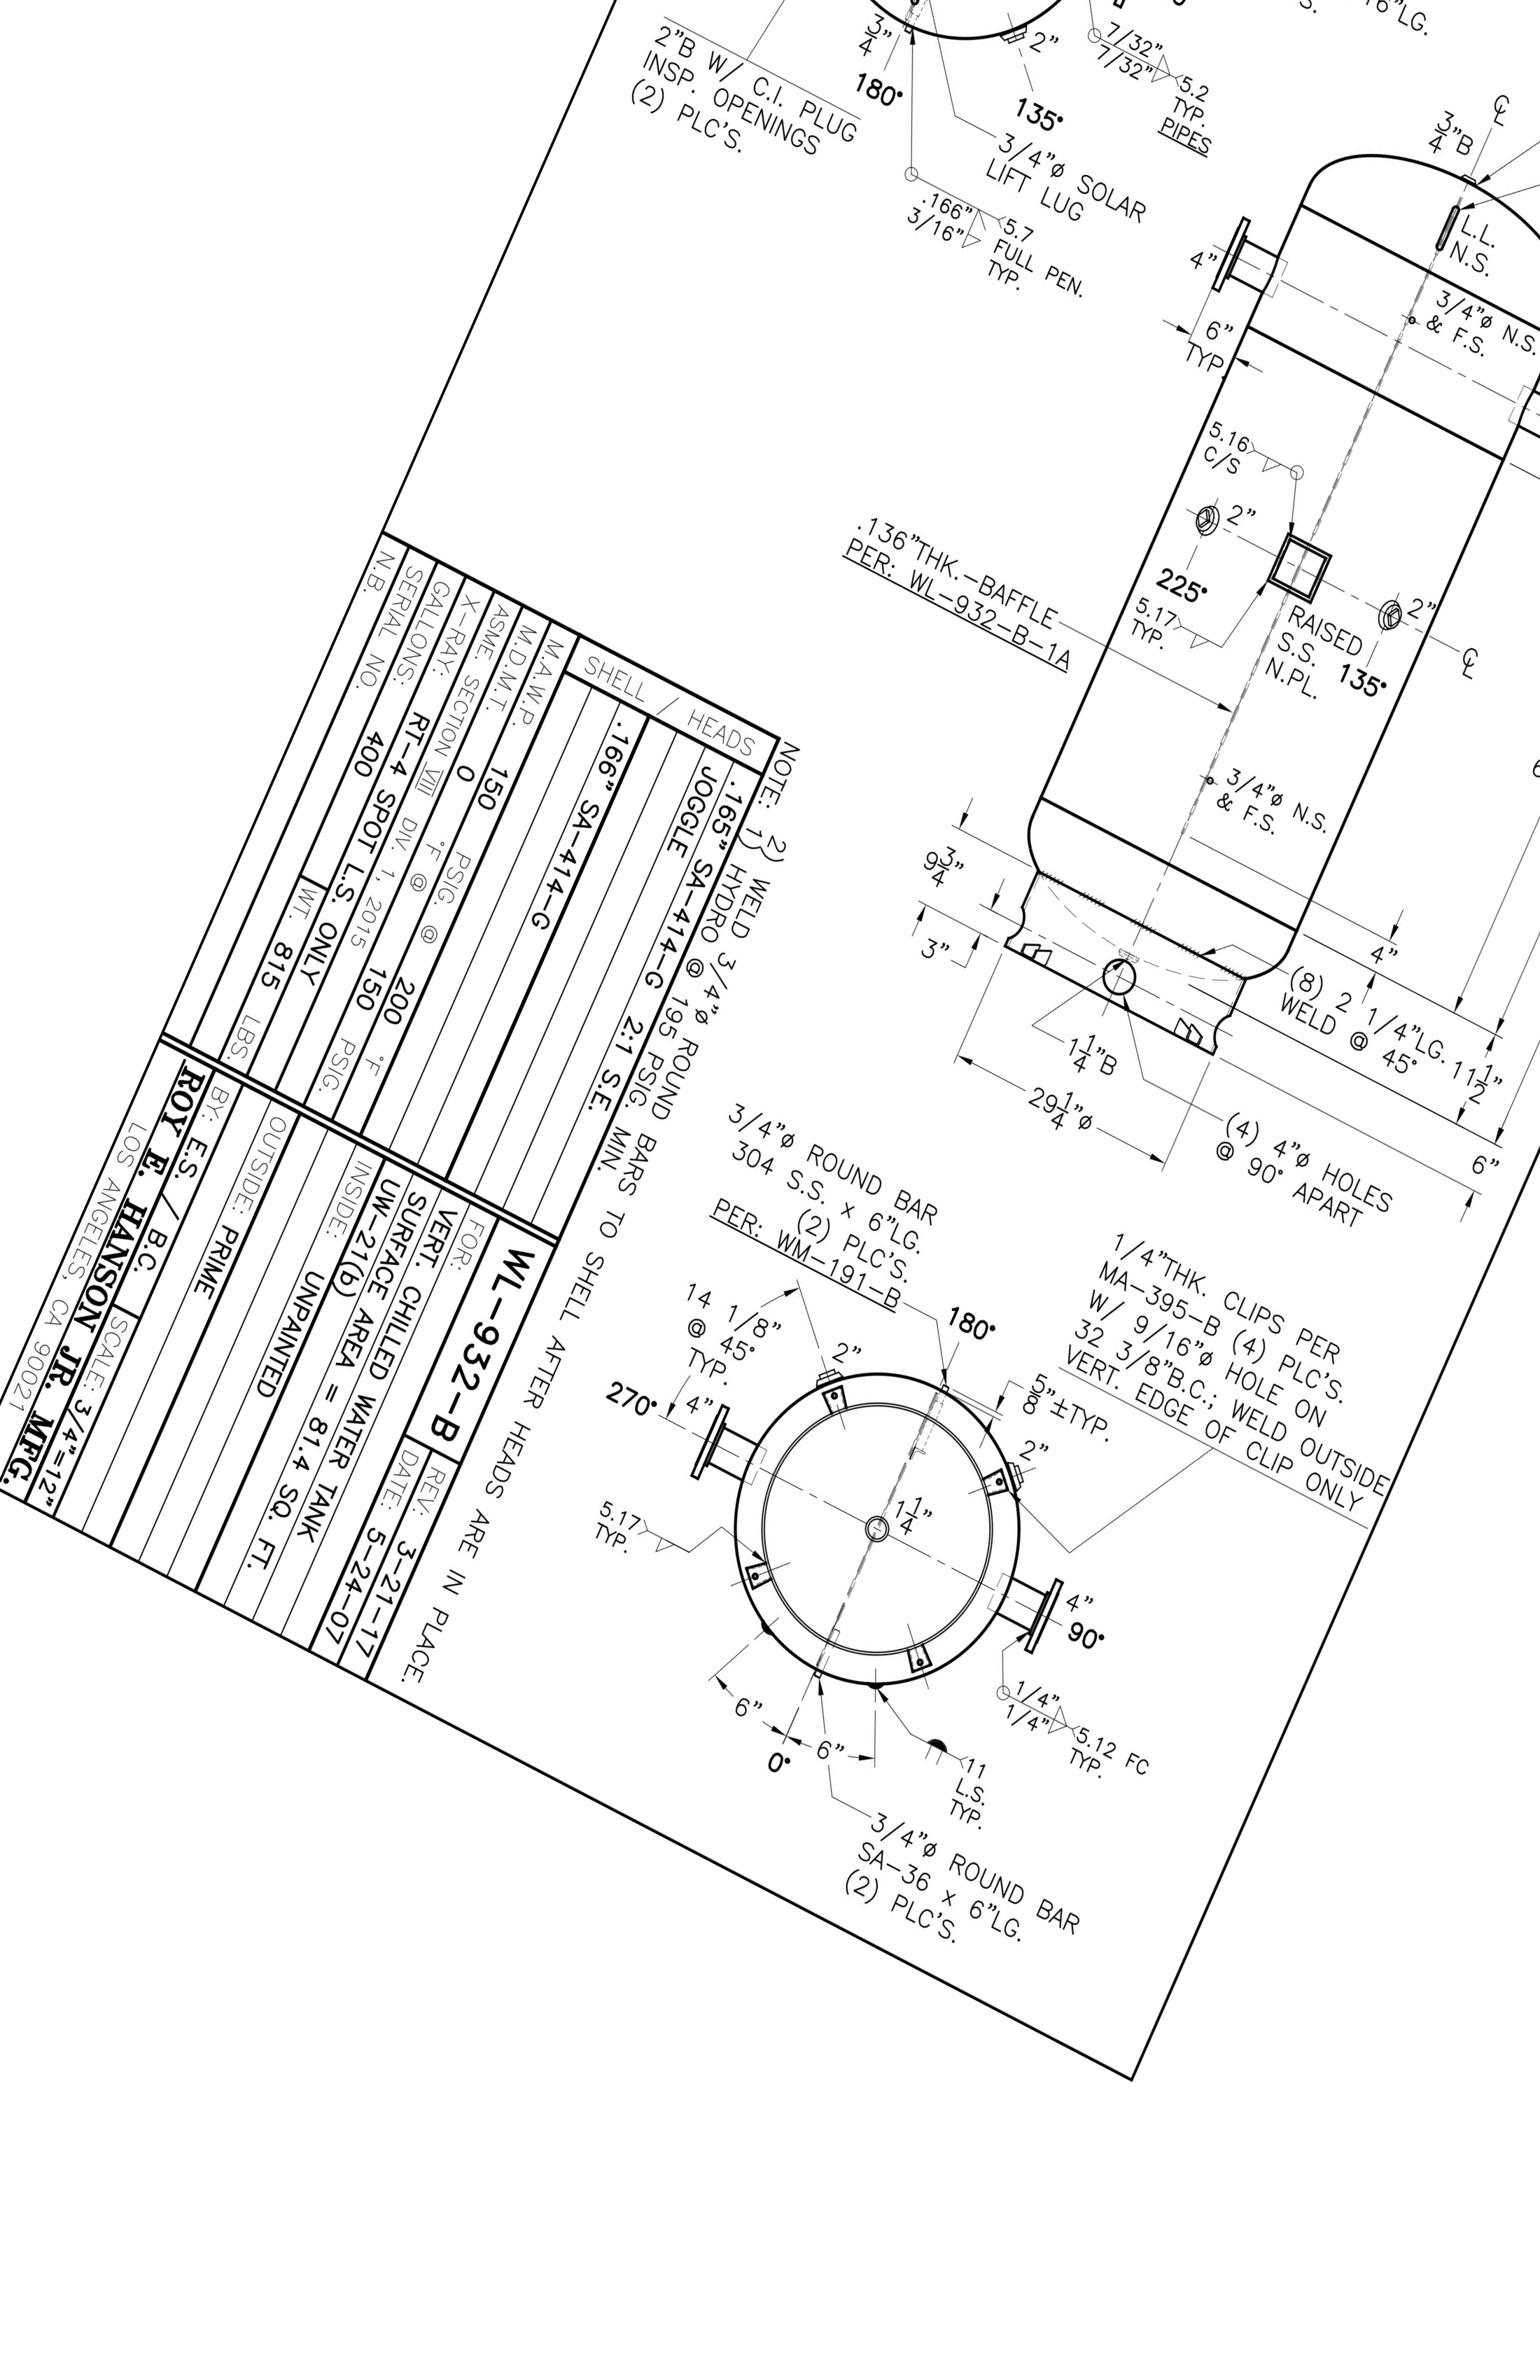Nozzle: (1183, 193, 1299, 309), (654, 1395, 773, 1499), (978, 1563, 1086, 1671)
